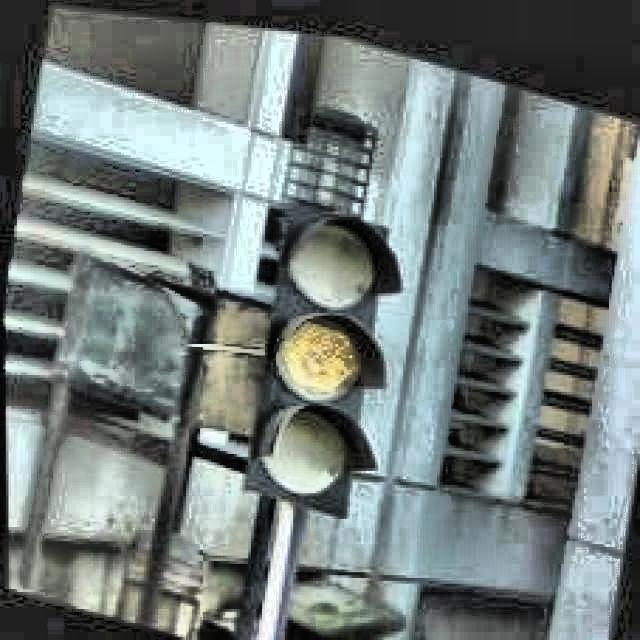yellow: (266, 209, 378, 517)
